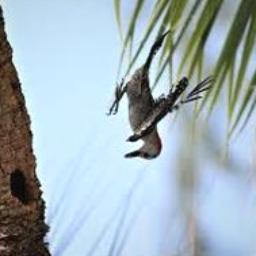Woodpecker: (107, 31, 215, 159)
